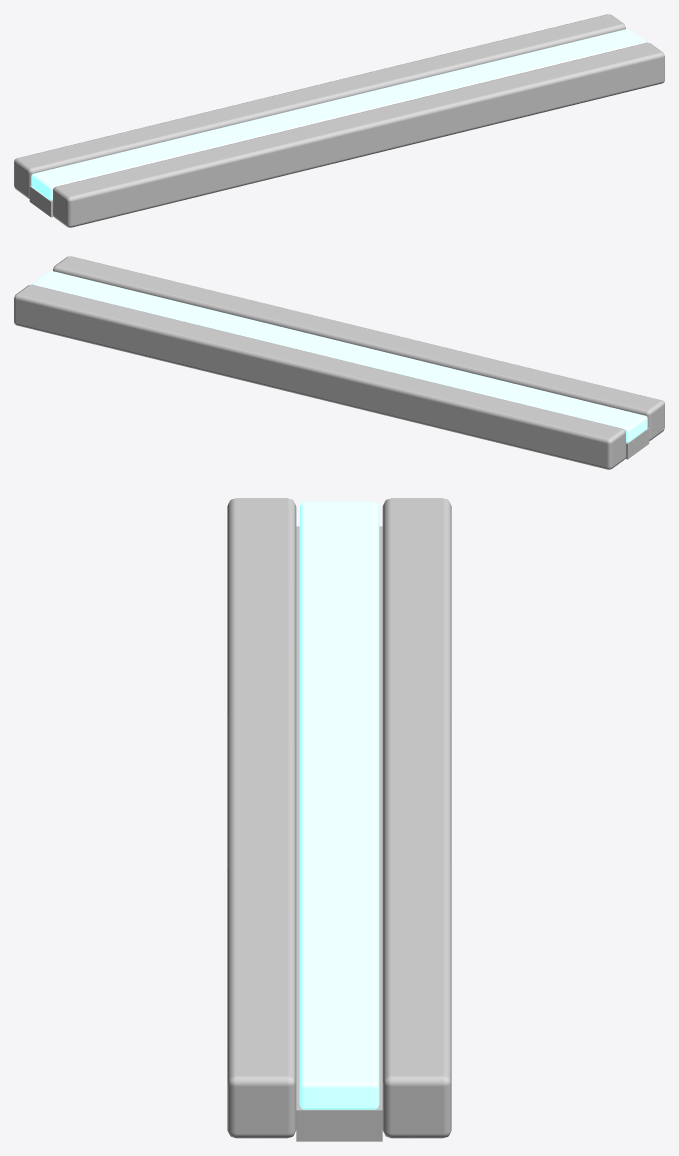
Rendered from Lobby_PROP_NeonEdgeStrip.fbx.
3 renders of one model, top to bottom at view 1: azimuth 30°, elevation 25°; view 2: azimuth 150°, elevation 25°; view 3: azimuth 270°, elevation 25°, orthographic. The views are drawn at different scales.
Parts seen in each view (by area): view 1: Lobby_PROP_NeonEdgeStrip__Marble, Lobby_PROP_NeonEdgeStrip__NeonCyan; view 2: Lobby_PROP_NeonEdgeStrip__Marble, Lobby_PROP_NeonEdgeStrip__NeonCyan; view 3: Lobby_PROP_NeonEdgeStrip__Marble, Lobby_PROP_NeonEdgeStrip__NeonCyan.
Boxes of the visible parts, left/top/right/bottom form: Lobby_PROP_NeonEdgeStrip__Marble: left=14, top=14, right=664, bottom=227; Lobby_PROP_NeonEdgeStrip__NeonCyan: left=31, top=29, right=646, bottom=200; Lobby_PROP_NeonEdgeStrip__Marble: left=14, top=256, right=664, bottom=469; Lobby_PROP_NeonEdgeStrip__NeonCyan: left=32, top=271, right=647, bottom=442; Lobby_PROP_NeonEdgeStrip__Marble: left=227, top=498, right=451, bottom=1141; Lobby_PROP_NeonEdgeStrip__NeonCyan: left=299, top=501, right=379, bottom=1109.
Bounding box in the file's own units: 8 × 0.4 × 1.3.
